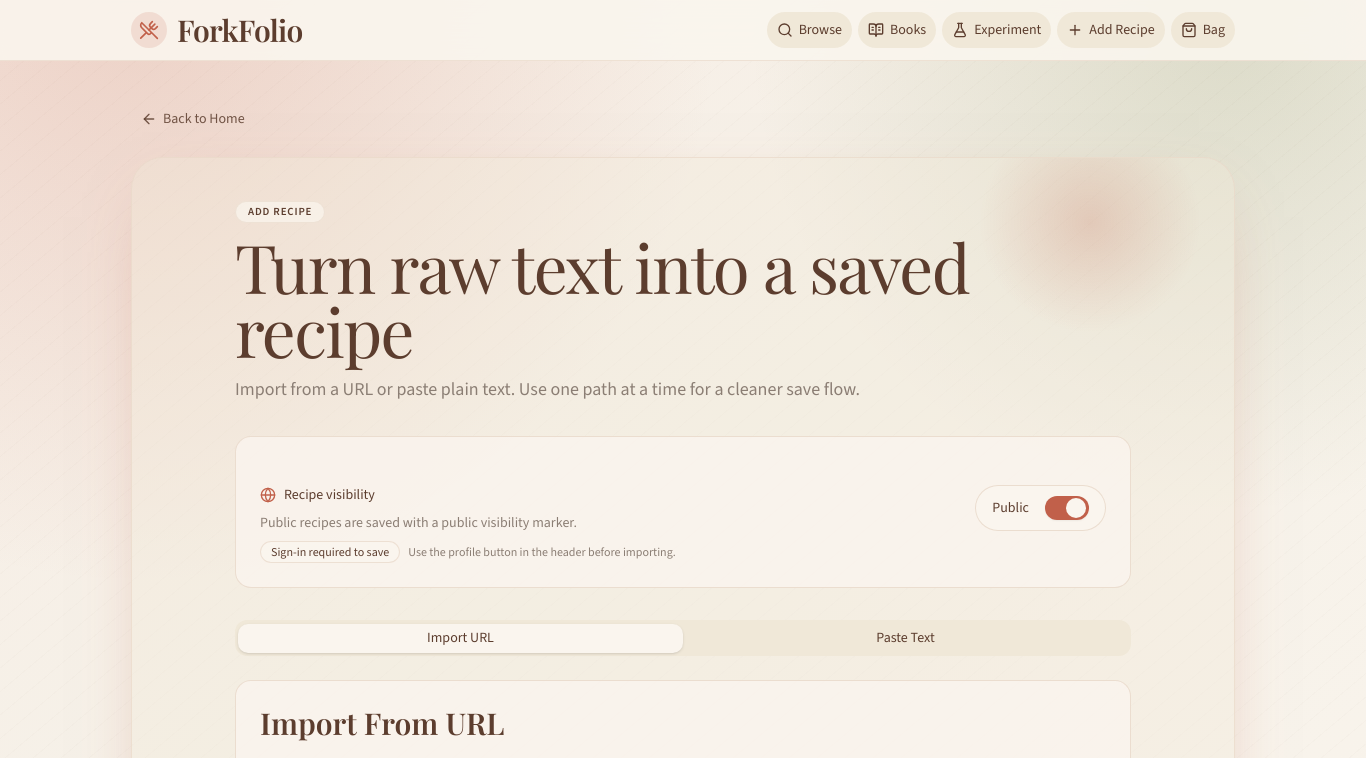
Test case: /recipes/new page › shows success state when recipe processing succeeds
Click the tab "Paste Text": (906, 638) [683, 624, 1128, 653]
(page scrolled)
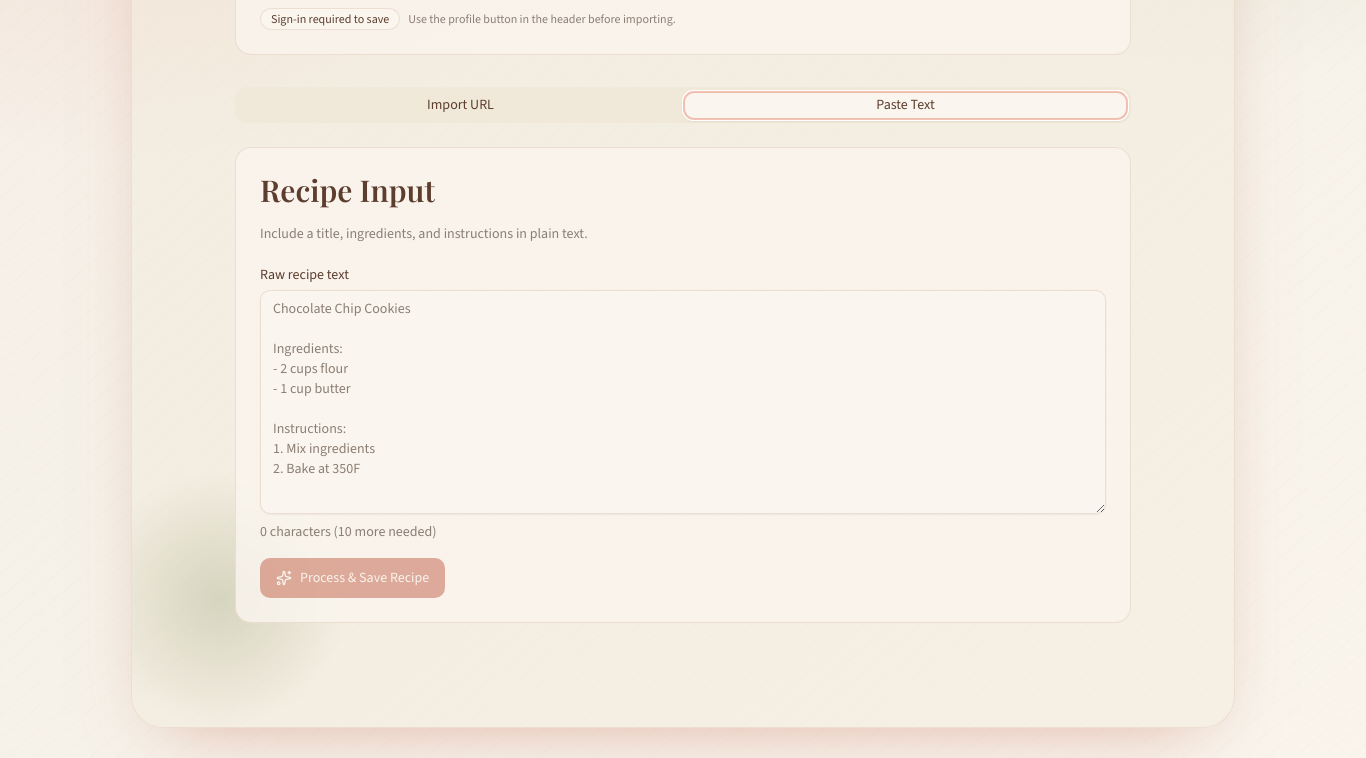
In the text box labelled "Raw recipe text": (683, 402) [260, 290, 1106, 514], type "Chocolate Chip Cookies with flour, sugar, and butter."
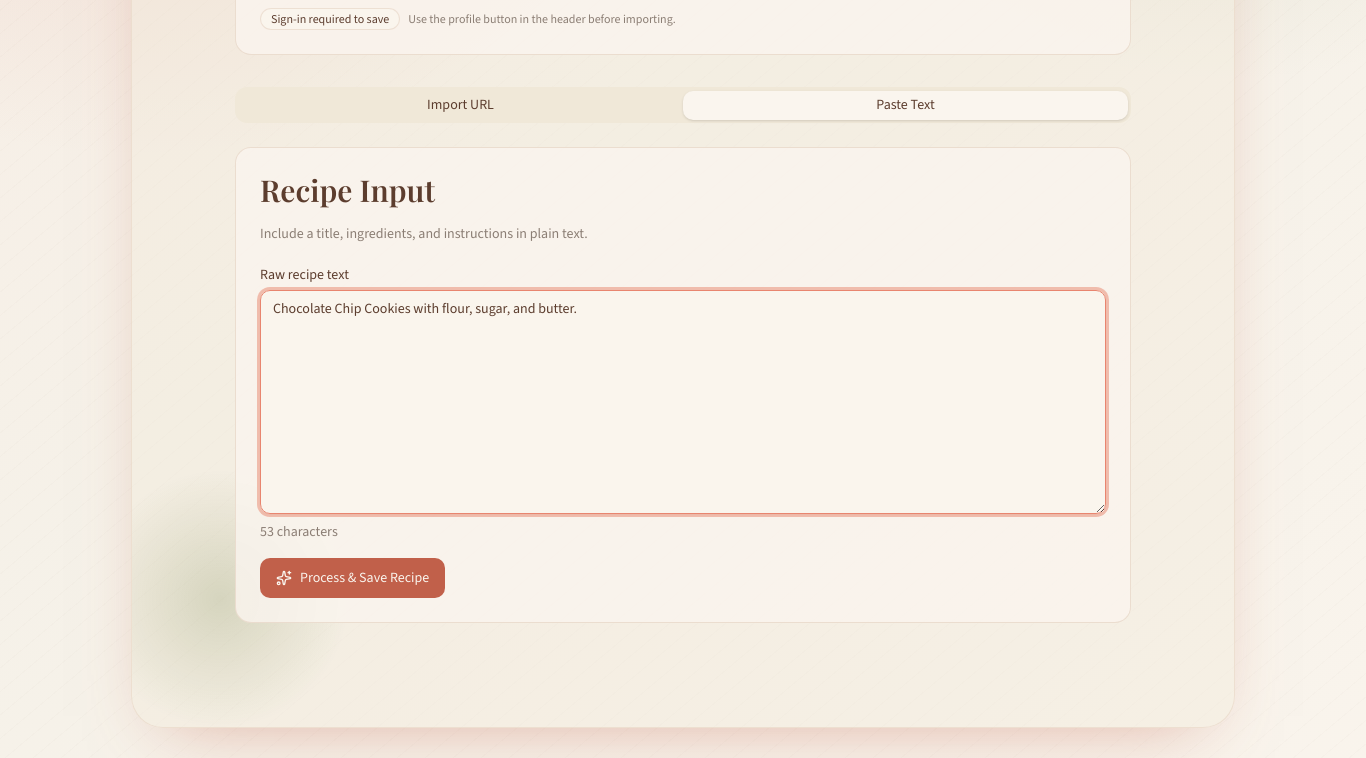
Click the button "Process & Save Recipe": (353, 578) [260, 558, 445, 598]
(page scrolled)
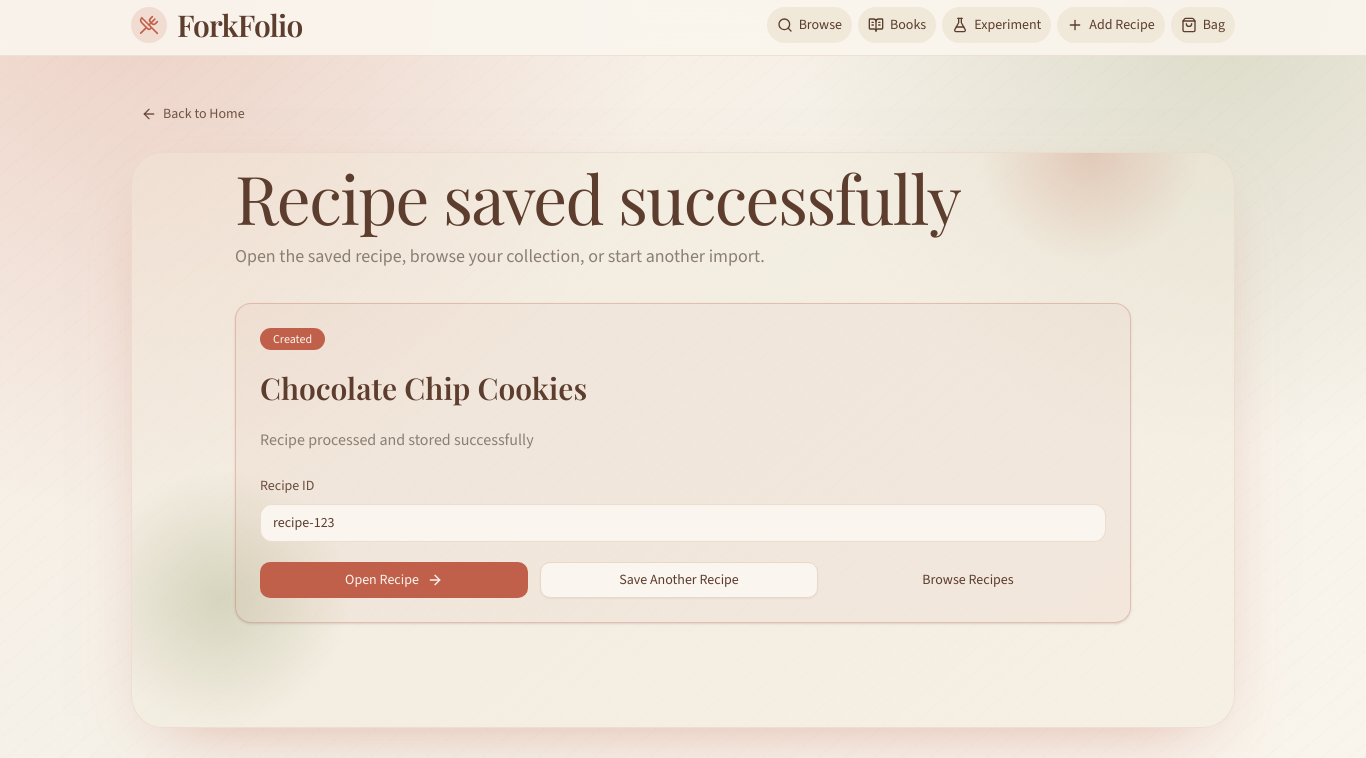
Expected: the text "Created" is shown, [260, 328, 325, 350]
Expected: the text "Recipe processed and stored successfully" is shown, [260, 429, 534, 450]
Expected: the text "Chocolate Chip Cookies" is shown, [260, 368, 587, 408]
